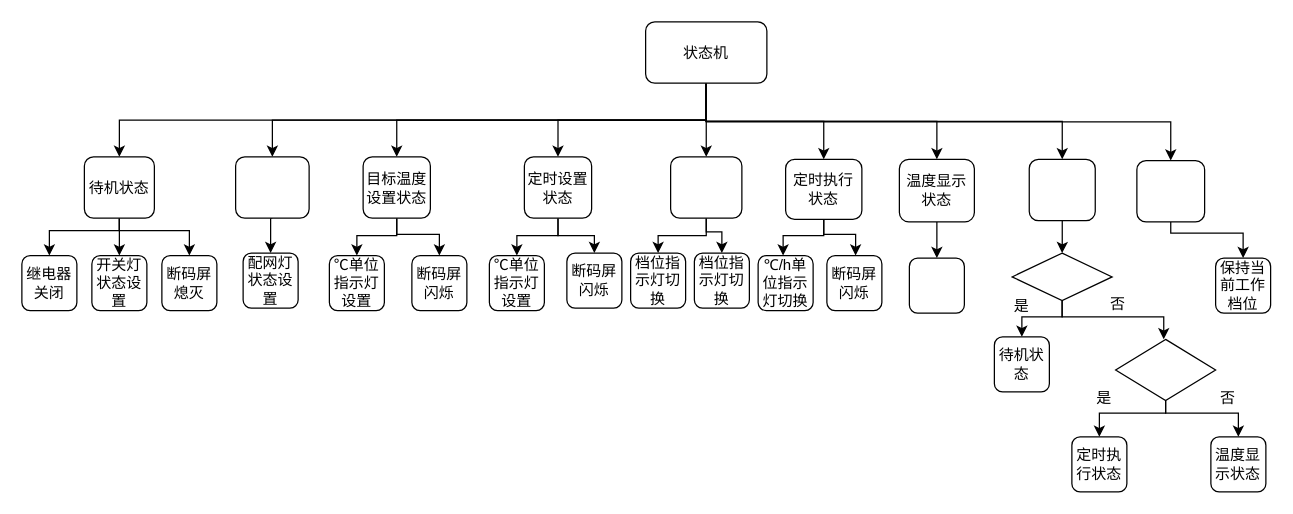
Image size: 1293x514. Some labels were removed from this diagram. The centre of each missing label's shape, as x and y in pixels:
定时执行: the point at 1165,369
当前温度大于目标温度: the point at 1061,276
手动模式: the point at 1170,190
断码屏常亮: the point at 936,285
档位设置状态: the point at 705,187
自动模式: the point at 1061,189
配网状态: the point at 271,187
